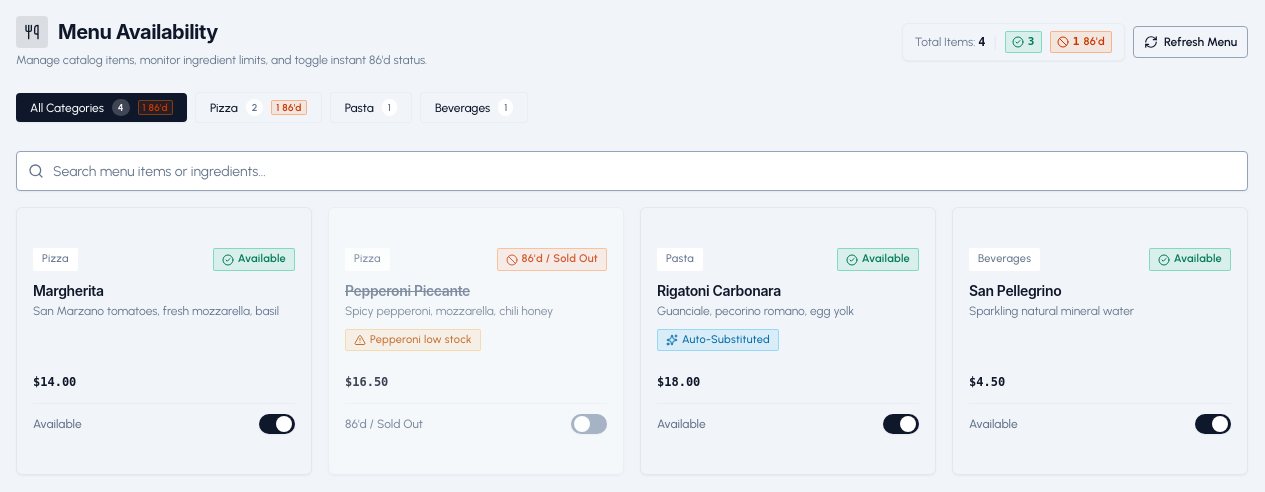
it: MenuPage › filters items when clicking a category tab
Expected: the heading "Margherita" is shown, [33,282,104,299]
// Click on Pasta tab
Click the tab "Pasta 1": x=371, y=108 [330,92,412,123]
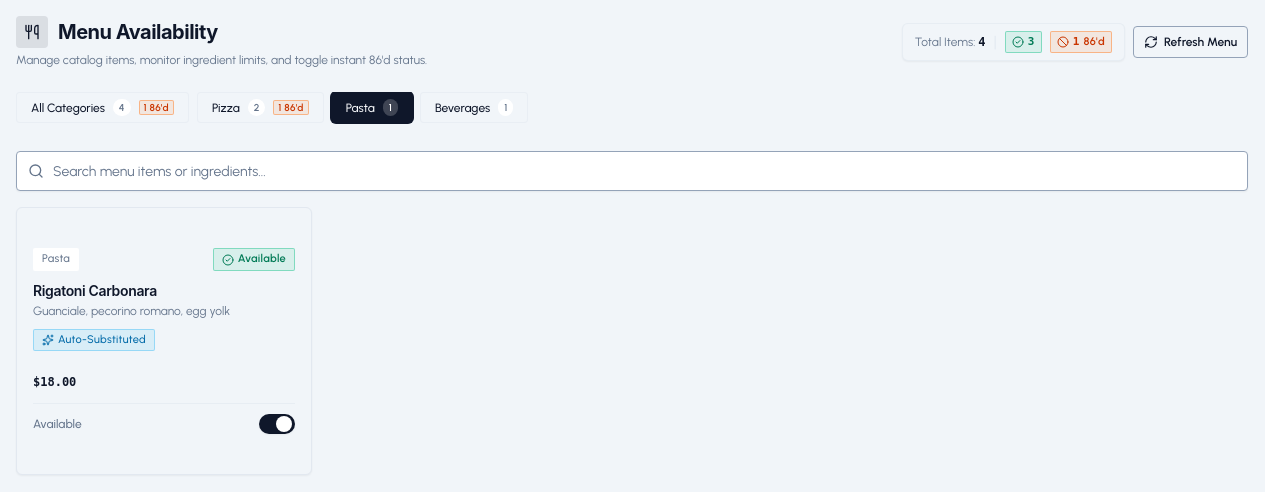
Expected: the heading "Rigatoni Carbonara" is shown, [33,282,157,299]
Expected: the heading "Margherita" is gone
Expected: the heading "San Pellegrino" is gone
